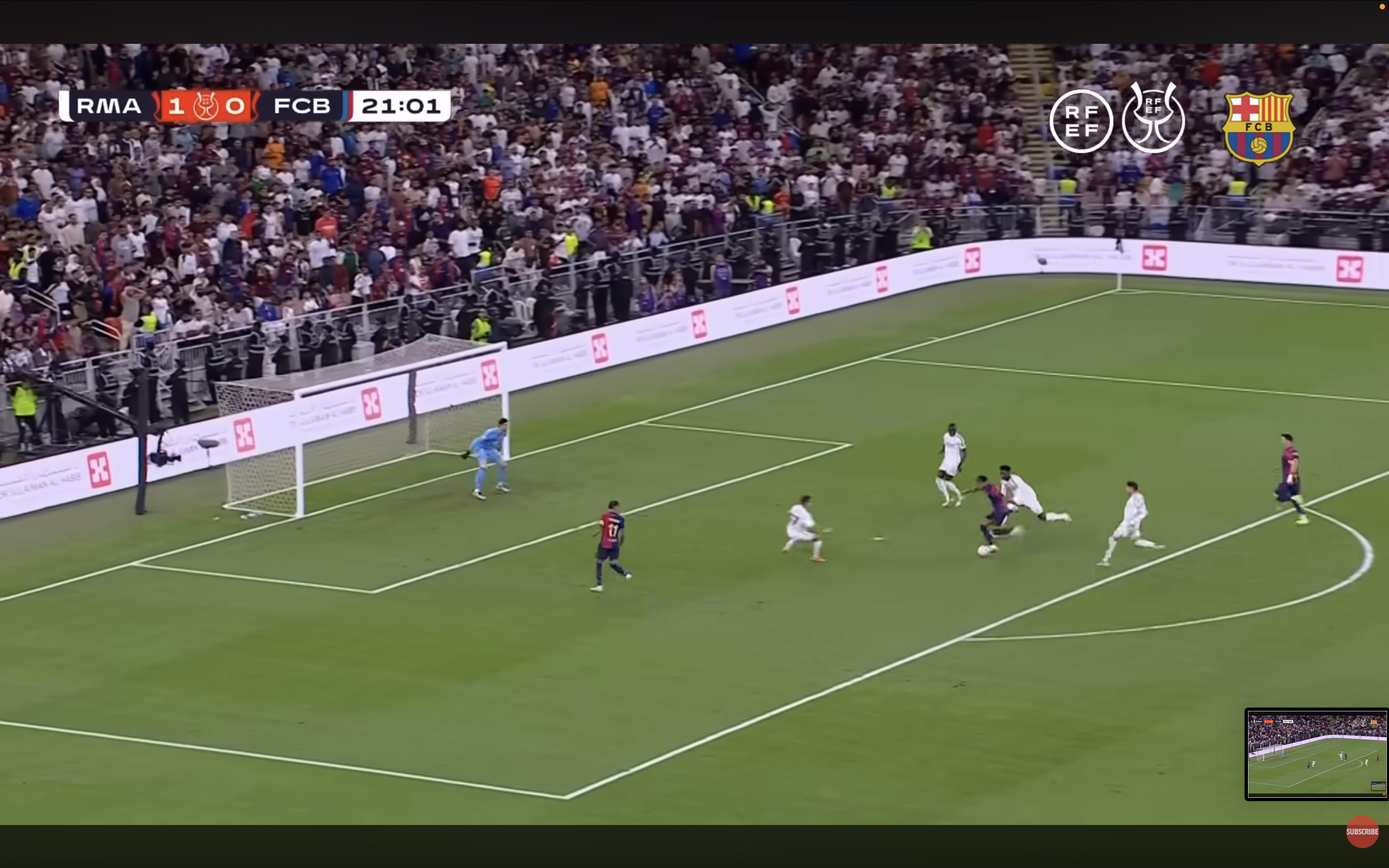ball: (977, 546, 992, 557)
goalkeeper: (461, 419, 508, 500)
player: (1098, 481, 1163, 566), (999, 465, 1071, 522), (971, 475, 1020, 555), (590, 501, 632, 592), (1275, 433, 1309, 525), (782, 495, 823, 562), (936, 423, 967, 506), (1307, 760, 1315, 769)
